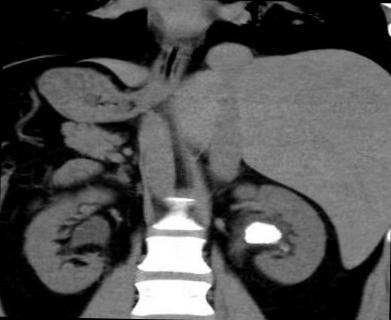Tas_Var: (238, 216, 284, 250)
